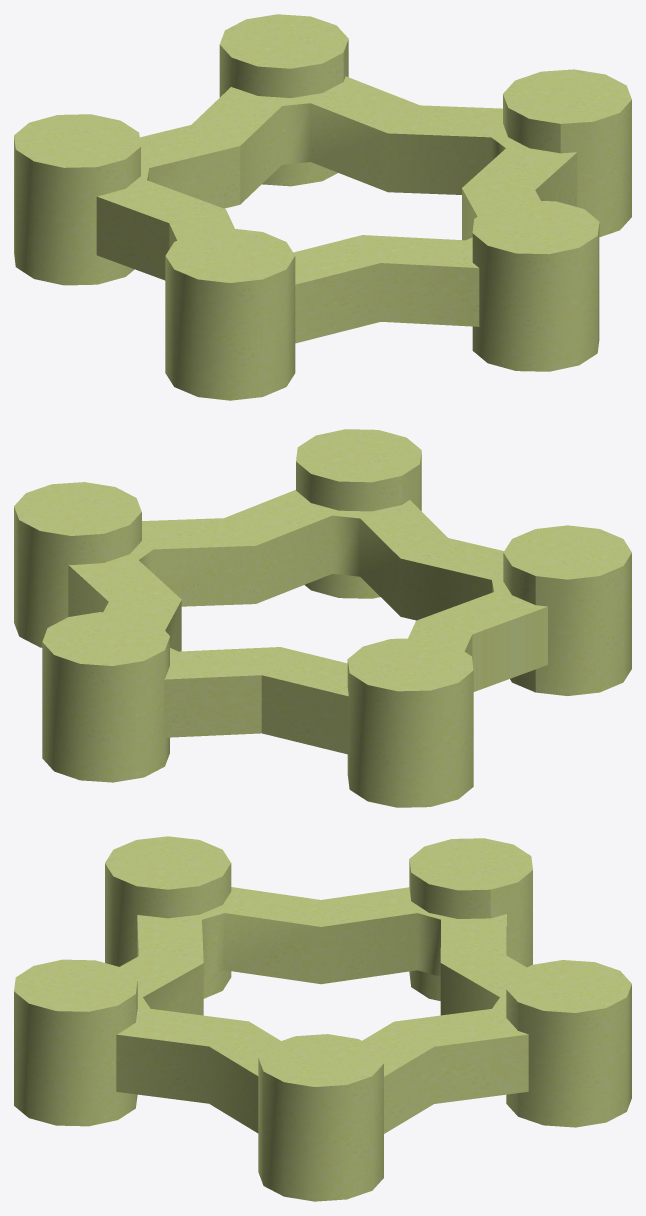
Rendered from stareggroadplanetlow.dae.
The picture shows the model from 3 angles, top to bottom: view 1: azimuth 30°, elevation 25°; view 2: azimuth 150°, elevation 25°; view 3: azimuth 270°, elevation 25°; orthographic projection. The views are drawn at different scales.
Visible parts, largest first — view 1: n0b0; view 2: n0b0; view 3: n0b0.
Boxes of the visible parts, x1,y1,x2,y2 form: n0b0: (14, 14, 631, 400); n0b0: (14, 429, 631, 807); n0b0: (14, 836, 631, 1201).
Size of the model in its own units: 3758 by 800 by 3913.
